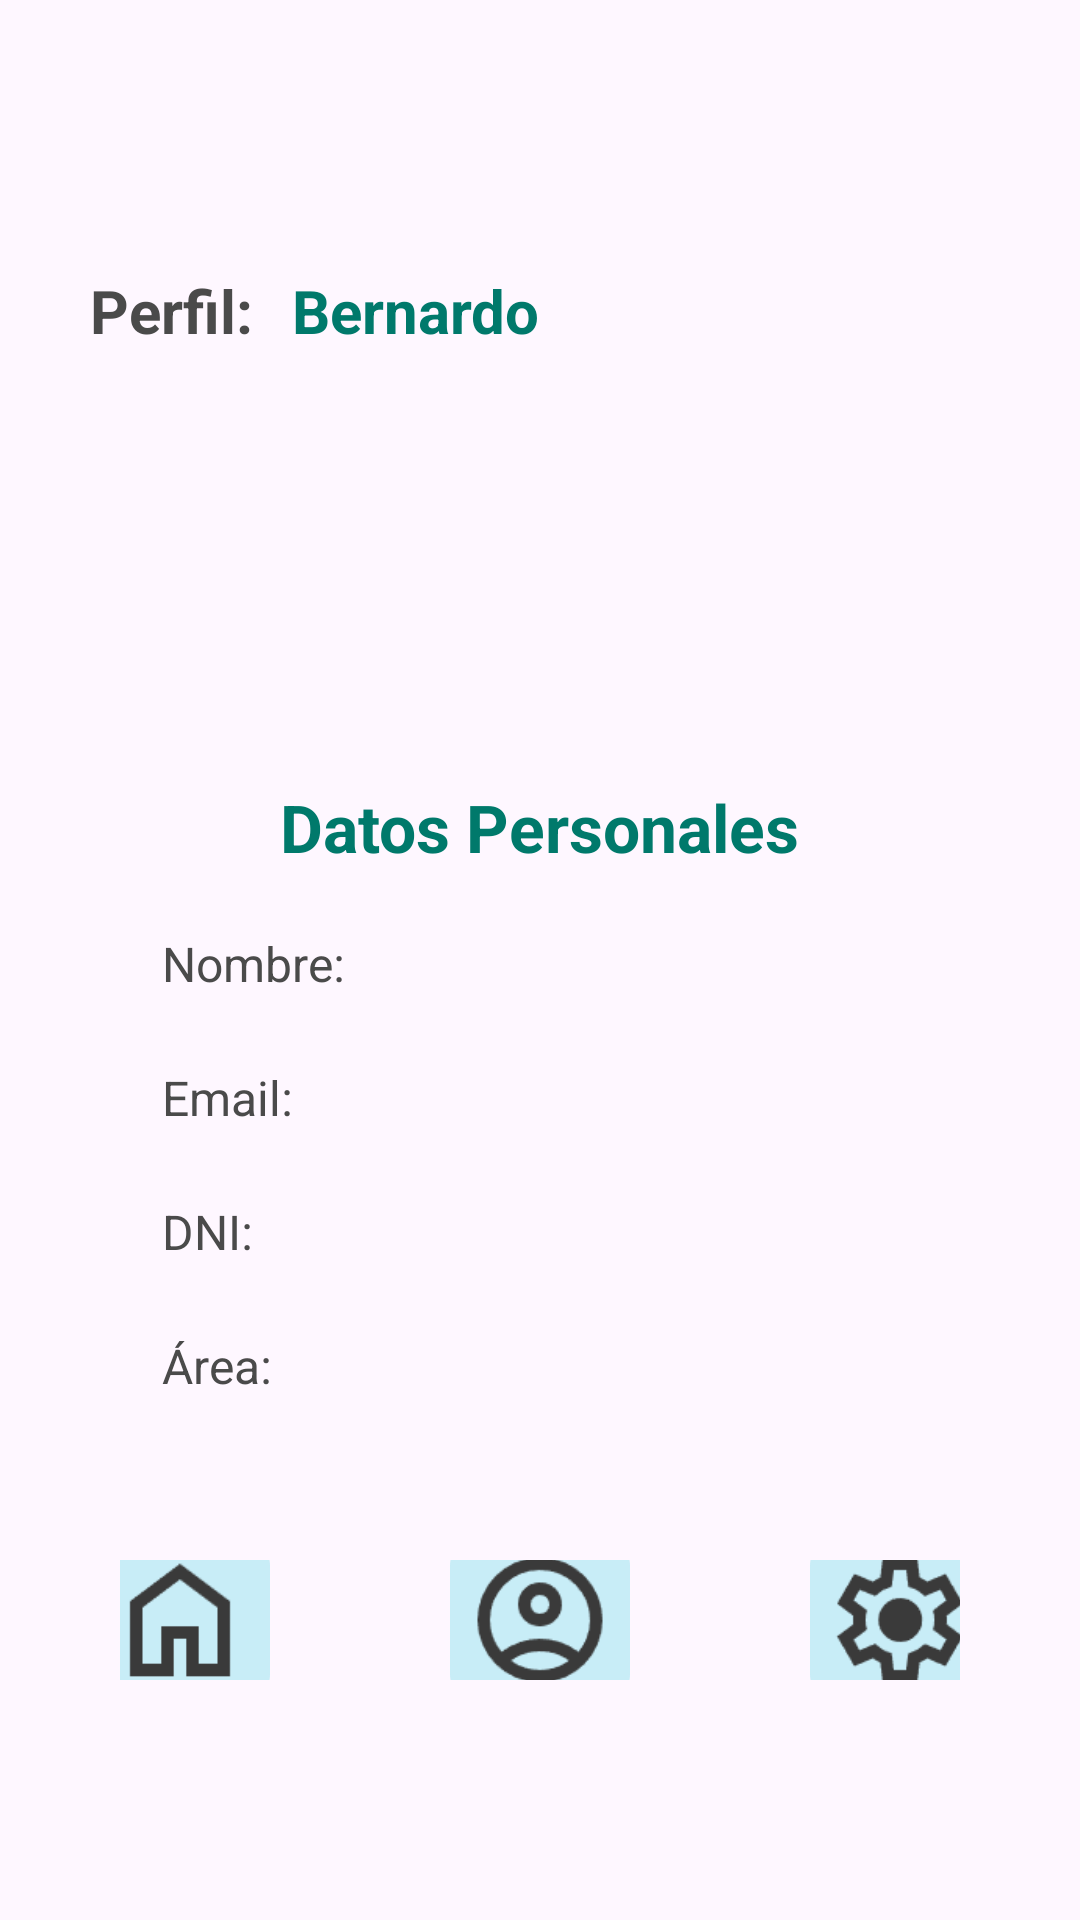

Where to tap for icons on this 1080×1920 app screen, as point (x, y):
Home: point (195, 1620)
Settings: point (885, 1620)
User: point (540, 1620)
